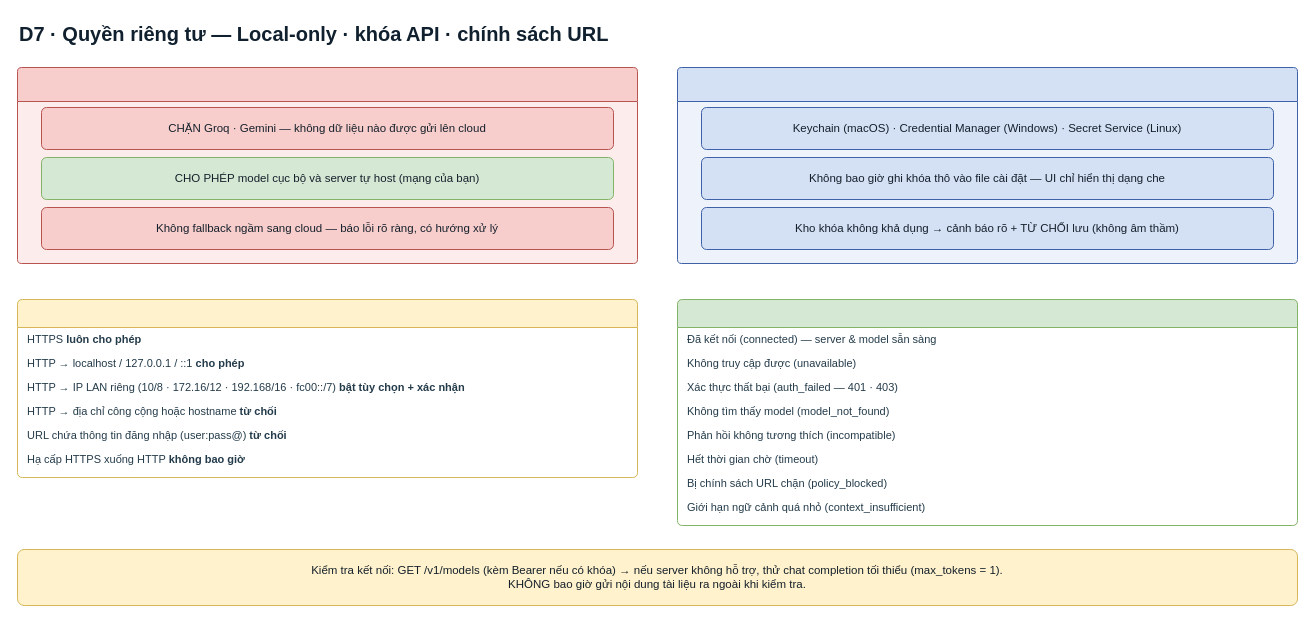
Image size: 1315x623. Some labels were removed from this diagram. Each missing label, with the box of its shape:
Chính sách URL — server tự host & Remote Server: (16, 298, 638, 478)
Khóa API — CHỈ nằm trong kho khóa hệ điều hành: (676, 66, 1298, 264)
Kiểm tra kết nối self-hosted — các trạng thái hiển thị: (676, 298, 1298, 526)
Local-only (Cài đặt → Quyền riêng tư): (16, 66, 638, 264)
